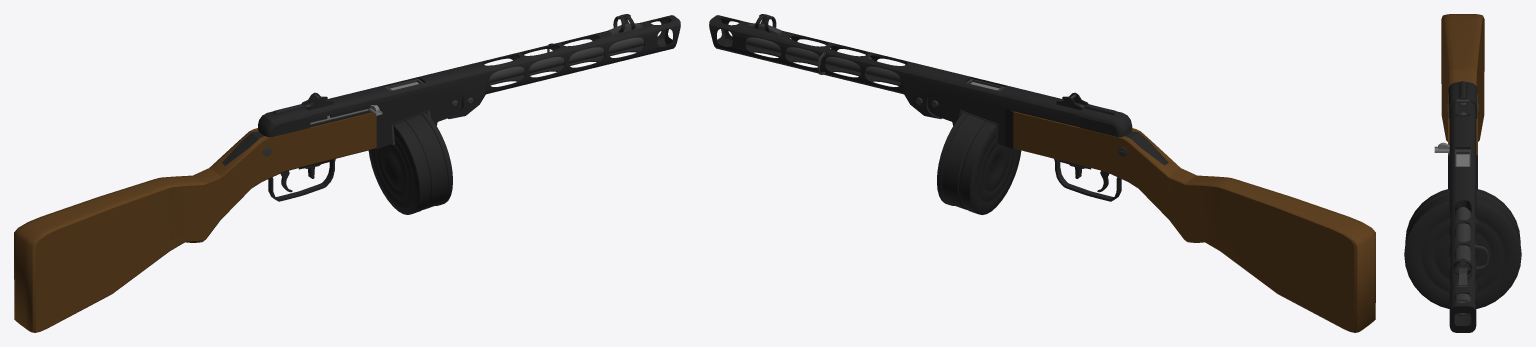
File: ППШxyzDz.fbx
The picture shows the model from 3 angles, left to right: view 1: azimuth 30°, elevation 25°; view 2: azimuth 150°, elevation 25°; view 3: azimuth 270°, elevation 25°; orthographic projection. The views are drawn at different scales.
Visible parts, largest first — view 1: Cube.001; view 2: Cube.001; view 3: Cube.001.
Part boxes in pixels (left/top/right/bottom): Cube.001: left=14, top=14, right=680, bottom=332; Cube.001: left=709, top=14, right=1375, bottom=332; Cube.001: left=1404, top=14, right=1521, bottom=332.
Size of the model in its own units: 886 by 215 by 122.
